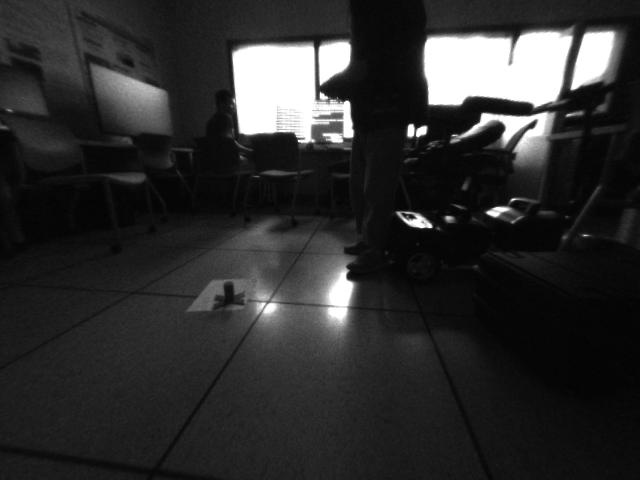x: (210, 277, 246, 311)
